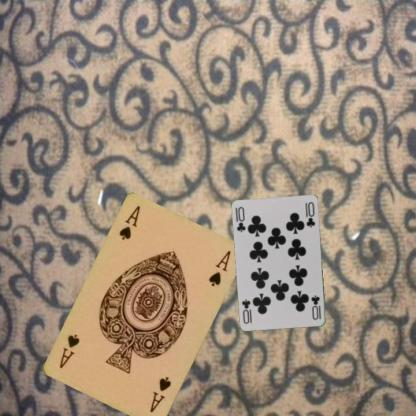10c: (308, 293, 323, 321), (235, 204, 246, 234)
As: (147, 374, 173, 414), (116, 203, 142, 241)
